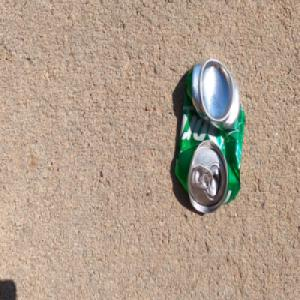SodaCan: (173, 56, 246, 214)
